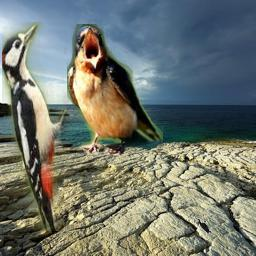Crow: (198, 219, 211, 233)
Swallow: (67, 24, 163, 155)
Woodpecker: (2, 22, 76, 231)
